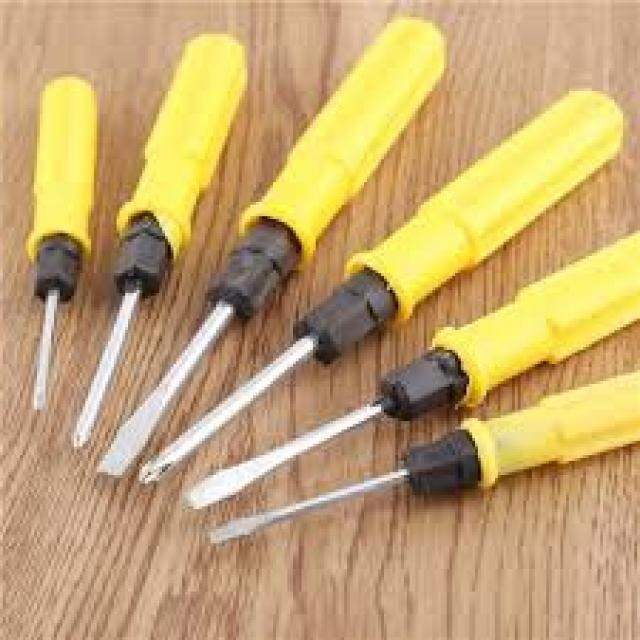screwdriver: (134, 87, 628, 485), (94, 10, 446, 482), (173, 226, 640, 513), (67, 26, 252, 460), (202, 364, 640, 546), (25, 74, 94, 412)
